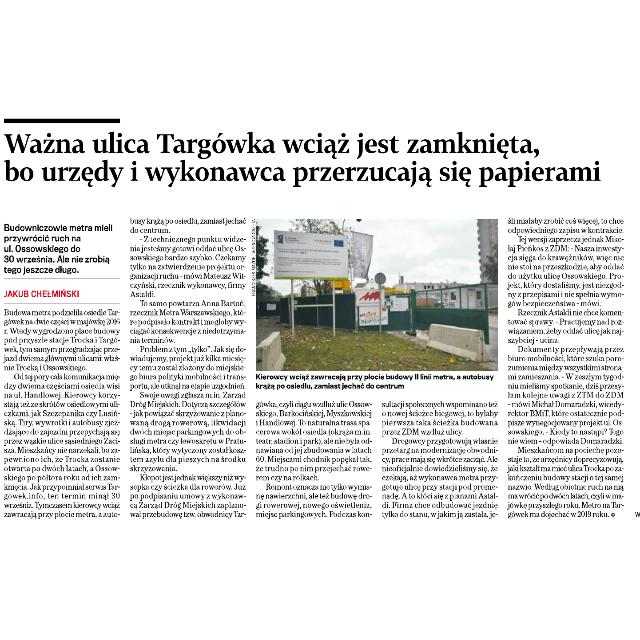author: (1, 284, 81, 300)
body: (502, 214, 626, 520), (126, 214, 248, 520), (0, 306, 122, 522), (378, 396, 500, 522), (252, 398, 374, 520)
caption: (254, 370, 496, 390)
image: (252, 215, 500, 372)
lead: (2, 218, 116, 276)
title: (2, 126, 612, 194)
